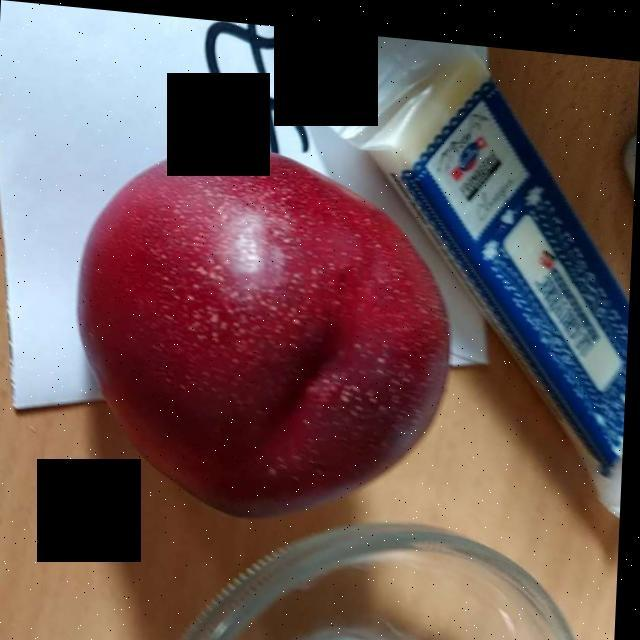nectarine: (88, 148, 444, 507)
